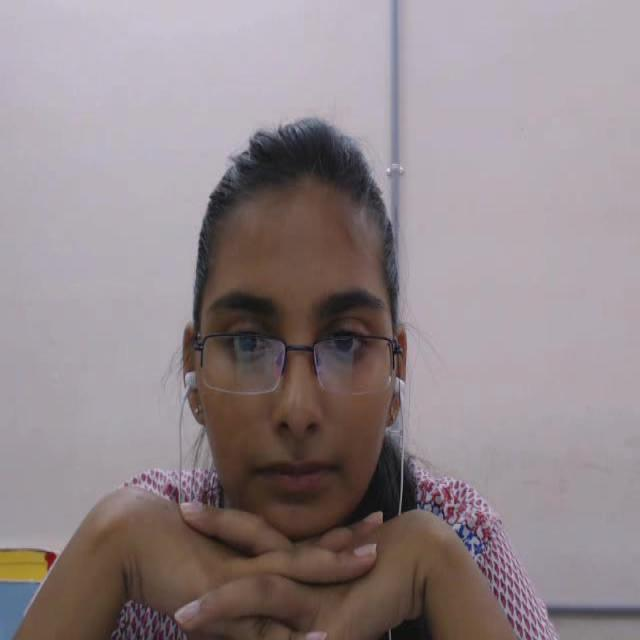Bored: (134, 77, 481, 640)
